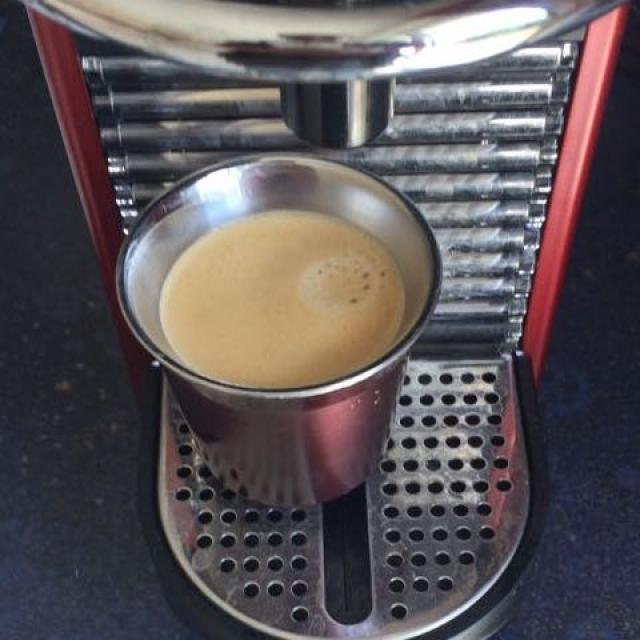coffee: (162, 213, 406, 387)
